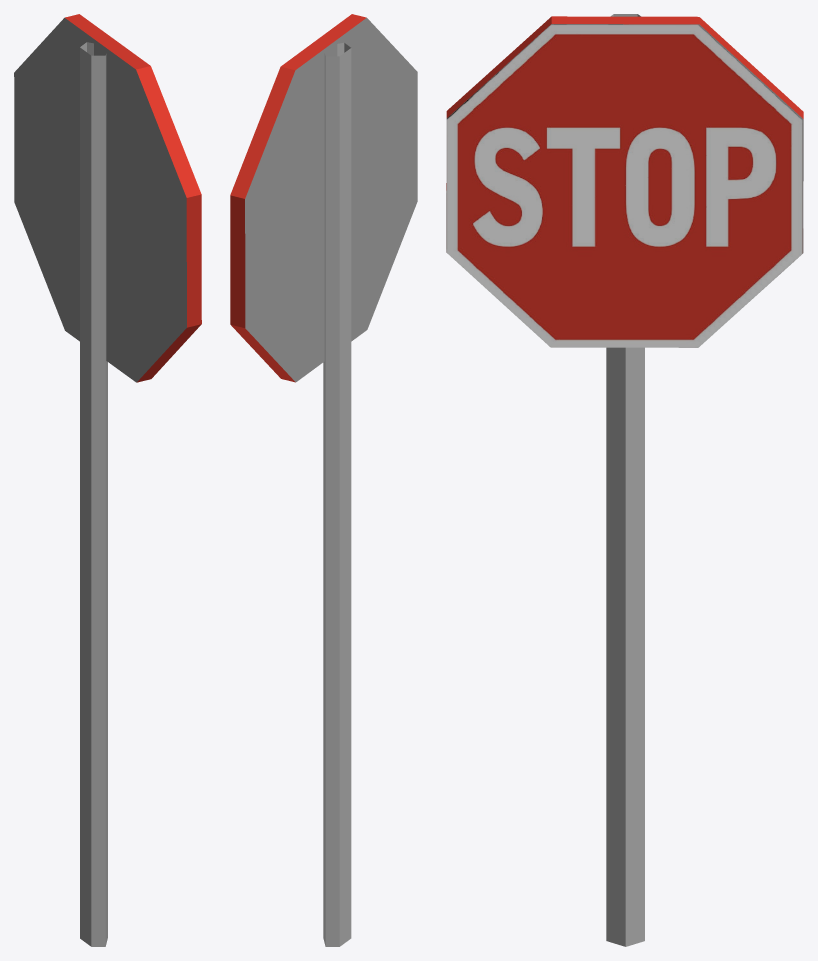
File: Traffic_STOP_FBX.fbx
The picture shows the model from 3 angles, left to right: view 1: azimuth 30°, elevation 25°; view 2: azimuth 150°, elevation 25°; view 3: azimuth 270°, elevation 25°; orthographic projection. The views are drawn at different scales.
Parts seen in each view (by area): view 1: pCylinder2; view 2: pCylinder2; view 3: pCylinder2.
Part boxes in pixels (left/top/right/bottom): pCylinder2: left=14, top=14, right=201, bottom=946; pCylinder2: left=230, top=14, right=417, bottom=946; pCylinder2: left=446, top=14, right=803, bottom=946.
Size of the model in its own units: 0.1215 by 3.54 by 1.24.
Materials: 1 (1 with a texture image).
